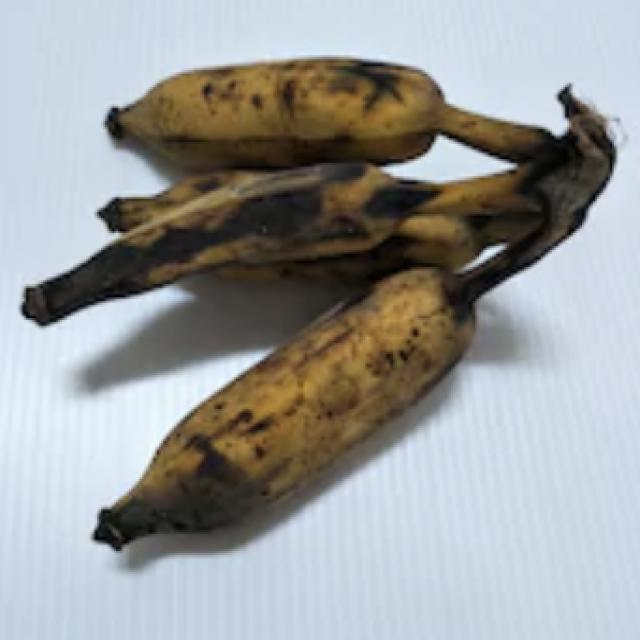rotten-banana: (90, 266, 496, 556), (20, 161, 454, 326), (92, 41, 492, 164)
